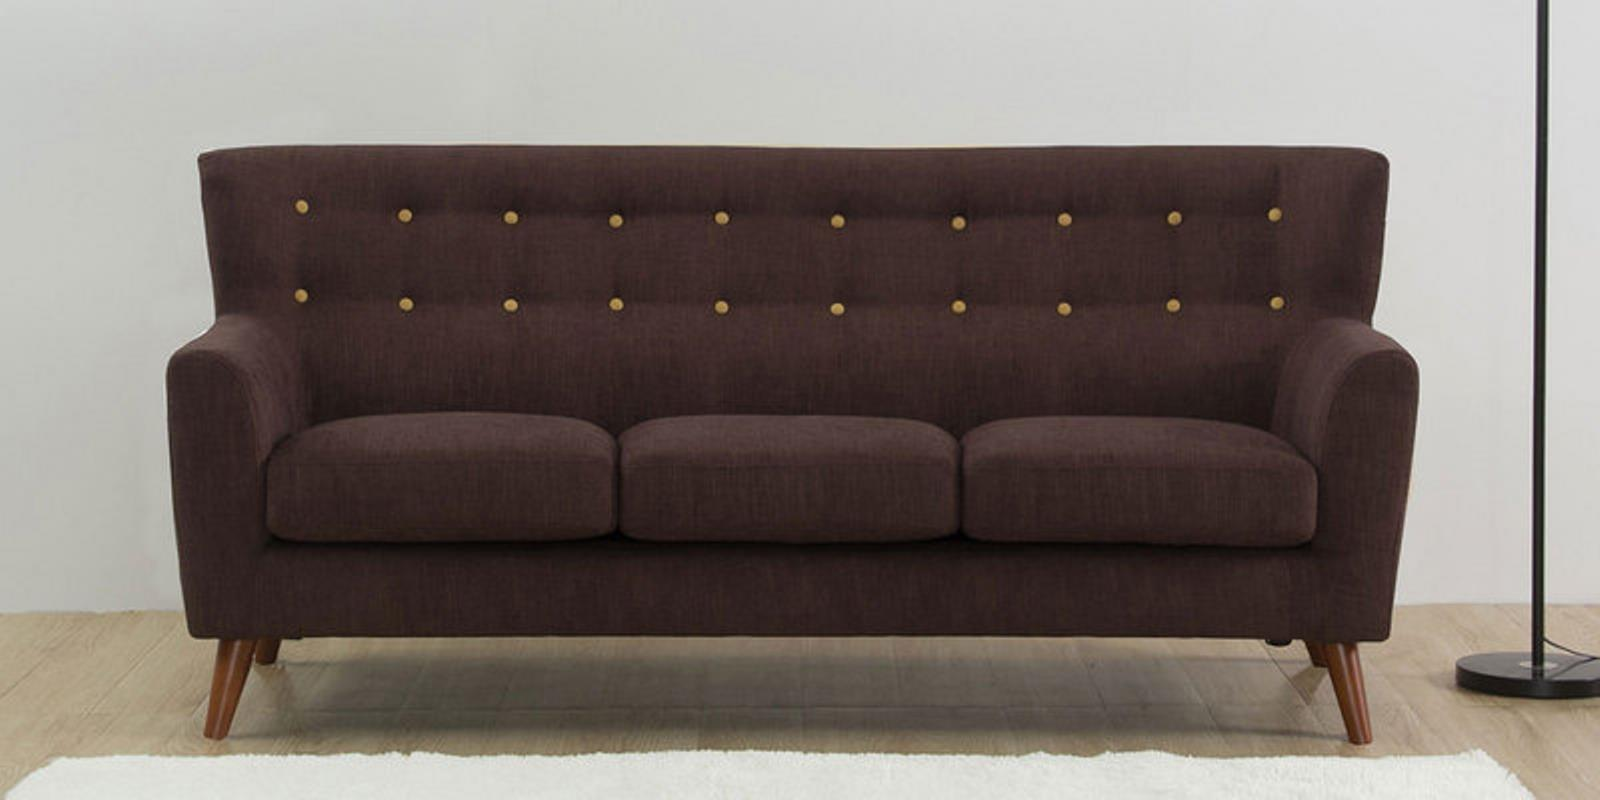Havana Three Seater Sofa in Dark Brown Colour by CasaCraft: (142, 131, 1434, 763)
